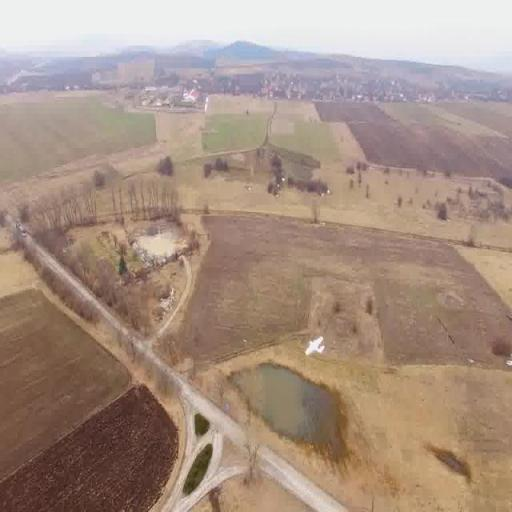uav: (300, 334, 332, 364)
